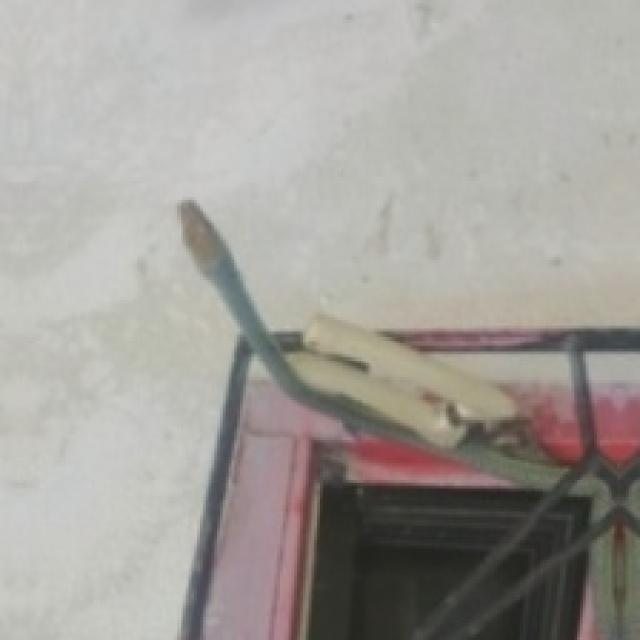paradise tree snake: (177, 200, 637, 637), (177, 200, 514, 449), (420, 349, 583, 466), (269, 434, 323, 637), (349, 491, 417, 554)
